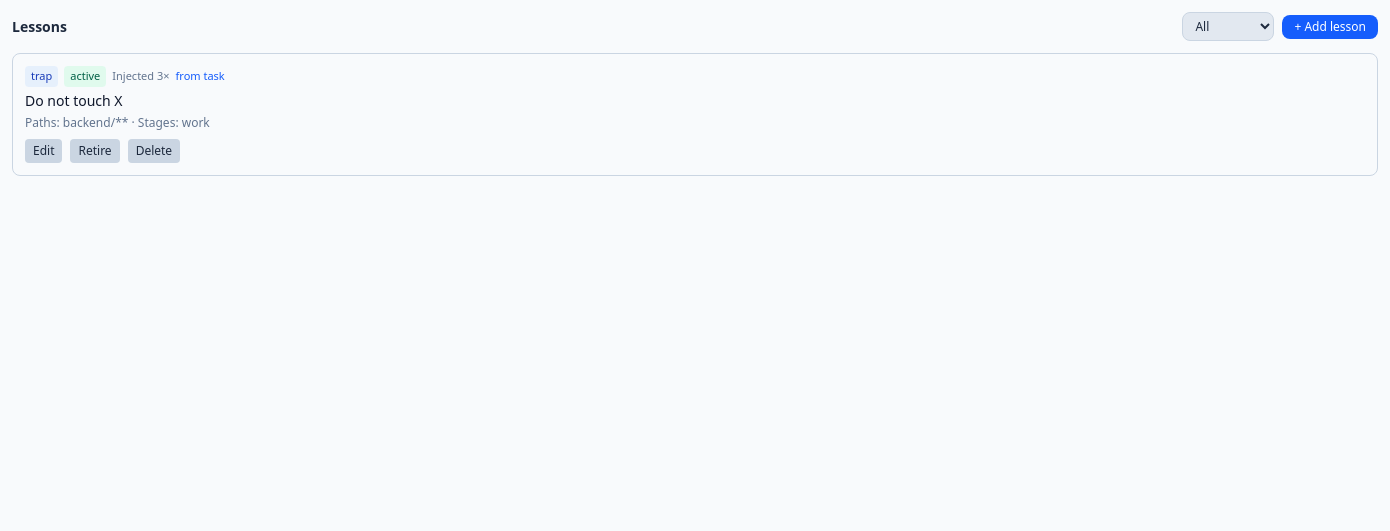
Test: LessonsPanel › edits a lesson with parsed globs and stages
This screenshot has width=1390, height=531.
Check: the text "Do not touch X" is shown, box [25, 90, 122, 110]
Click the button "Edit". click: [44, 150]
box: [25, 138, 62, 162]
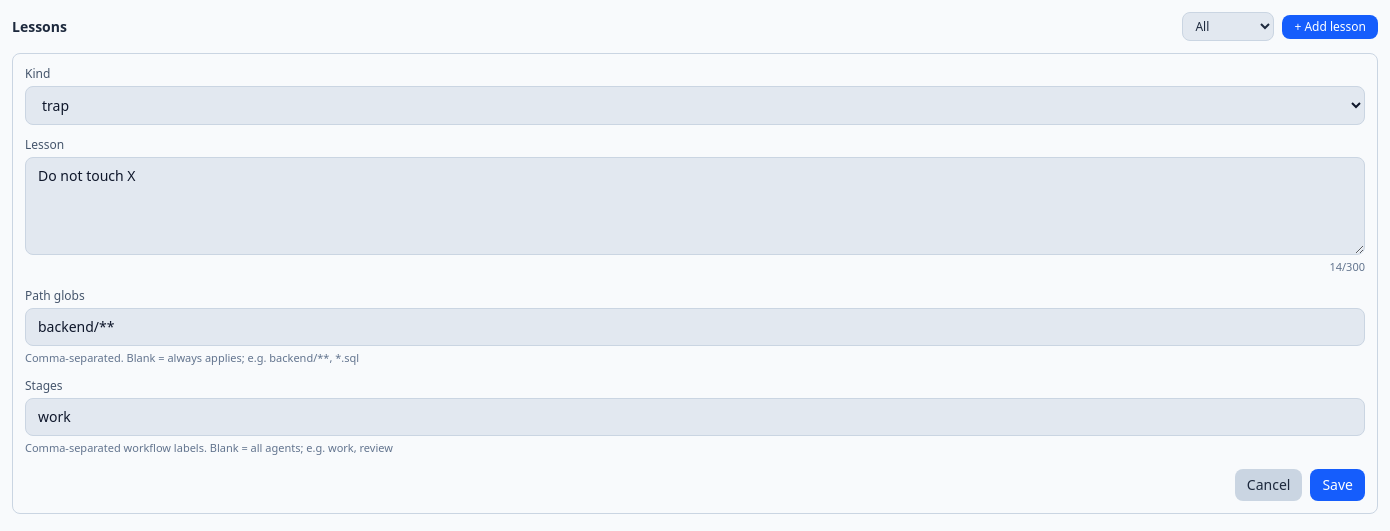
Replace the text in the text box labelled "Lesson" with "Changed". click: [695, 206]
box: [25, 157, 1365, 255]
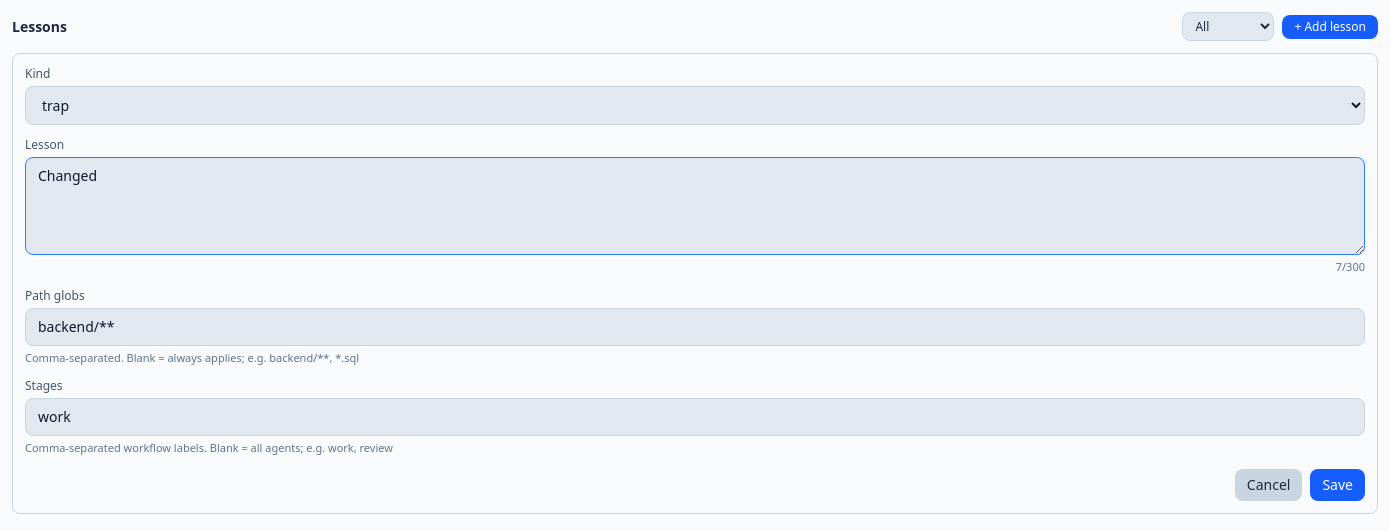
Replace the text in the field labelled "Path globs" with "a, b". click: [695, 326]
box: [25, 308, 1365, 346]
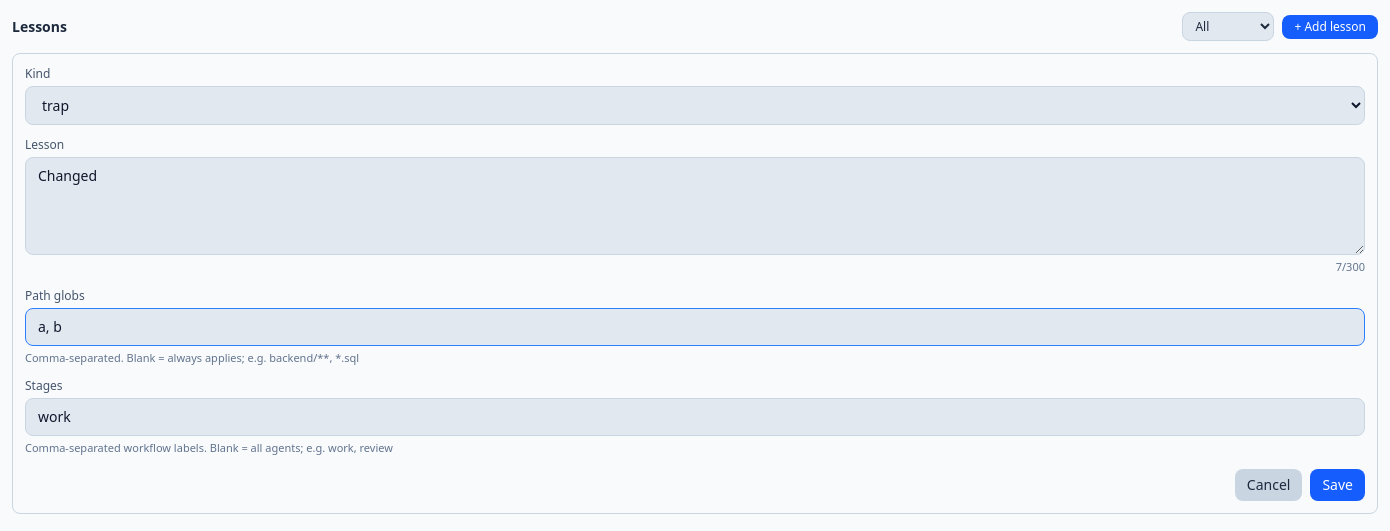
Clear the field labelled "Stages". click: [695, 417]
box: [25, 398, 1365, 436]
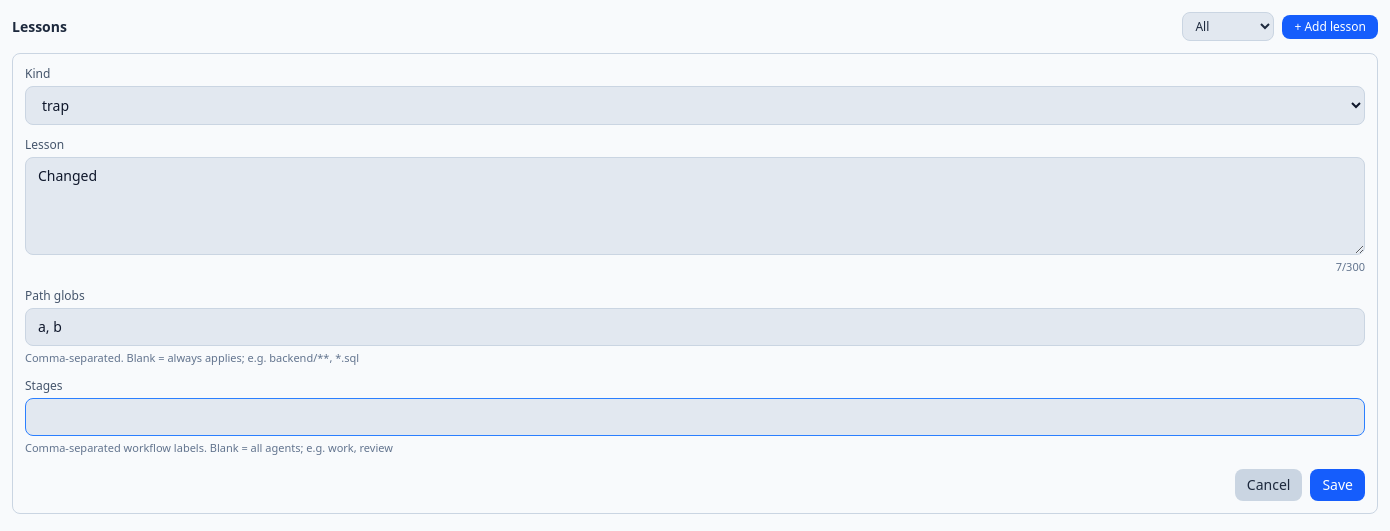
Click the button "Save". click: [1338, 484]
box: [1310, 468, 1365, 500]
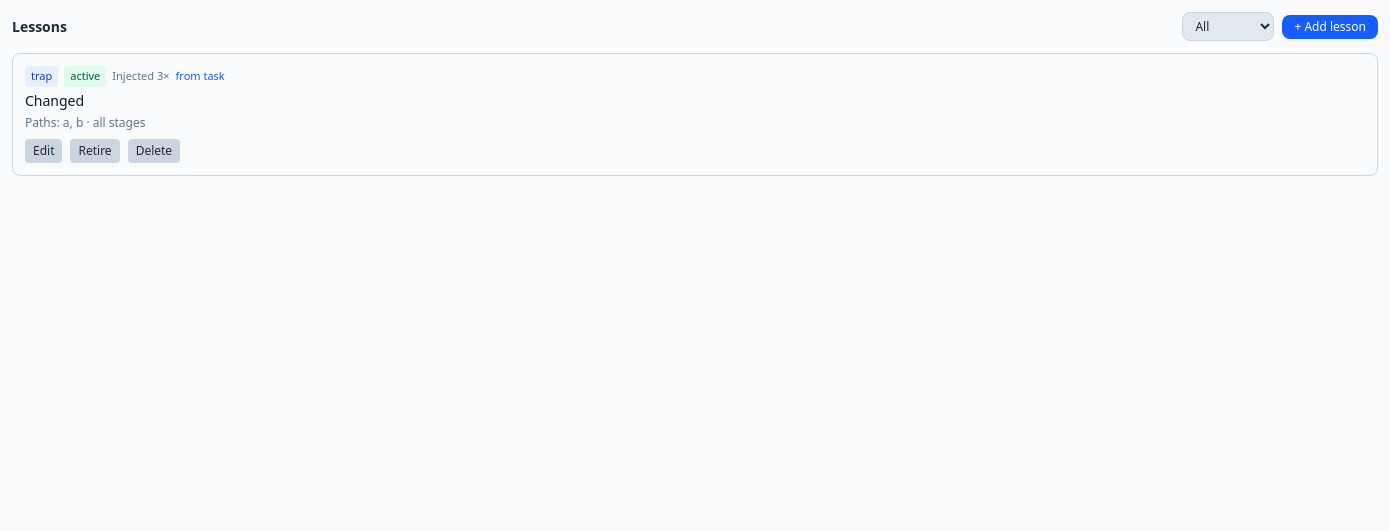
Check: the text "Changed" is shown, box [25, 90, 84, 110]
